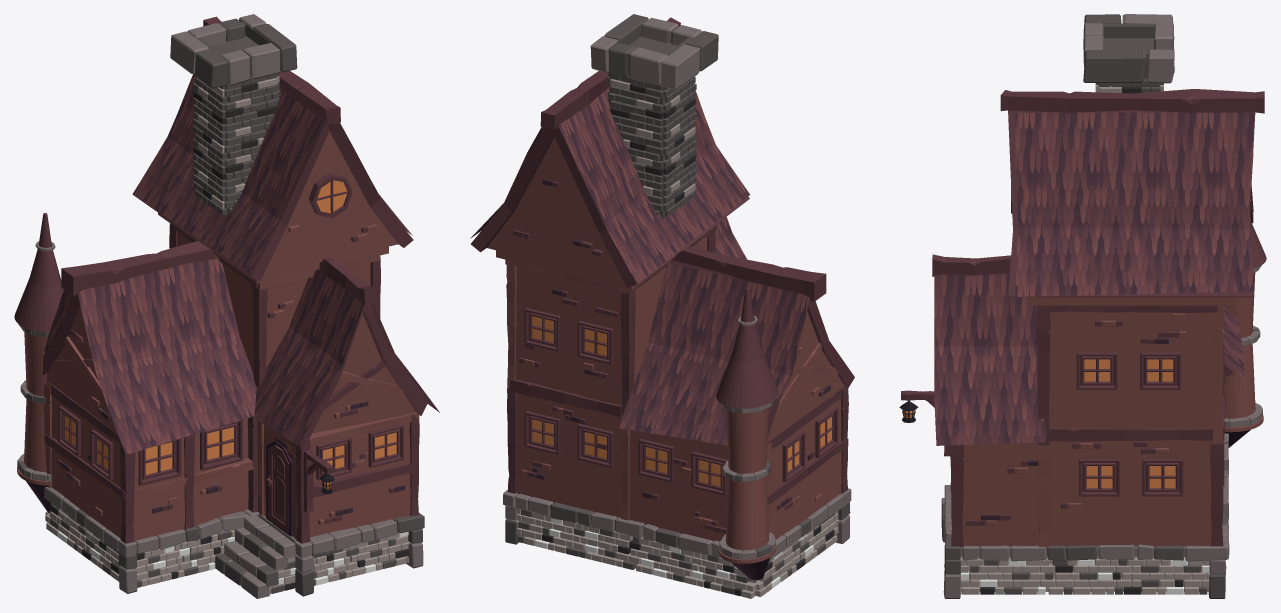
Rendered from casa-pedra9.fbx.
3 views of the same model, side by side, from view 1: azimuth 30°, elevation 25°; view 2: azimuth 150°, elevation 25°; view 3: azimuth 270°, elevation 25° (orthographic). The views are drawn at different scales.
Visible parts, largest first — view 1: CasaPedra9_LOD0, PortaCasaPedra9; view 2: CasaPedra9_LOD0; view 3: CasaPedra9_LOD0.
Boxes of the visible parts, x1,y1,x2,y2 form: CasaPedra9_LOD0: (14, 14, 439, 598); PortaCasaPedra9: (267, 445, 289, 533); CasaPedra9_LOD0: (470, 14, 854, 598); CasaPedra9_LOD0: (899, 14, 1266, 598).
Size of what is drawn, in the model's own units: 4.73 by 7.58 by 4.93.
